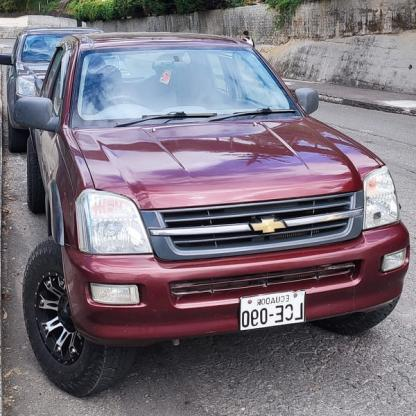Placa: (238, 290, 304, 331)
